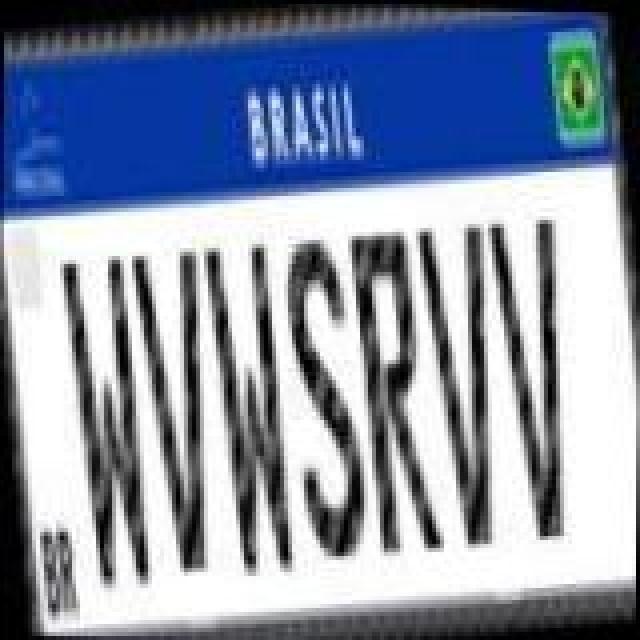R: (340, 224, 448, 556)
S: (272, 228, 380, 564)
V: (480, 212, 592, 544), (124, 242, 232, 574), (410, 218, 518, 550)
W: (196, 236, 304, 580), (56, 252, 164, 592)
